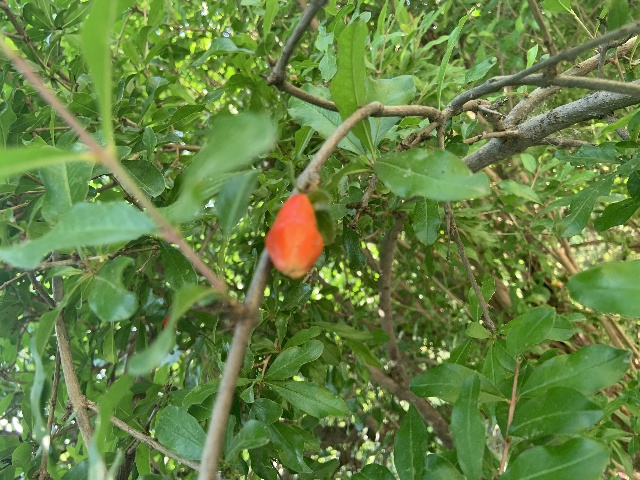bud: (264, 193, 323, 279)
